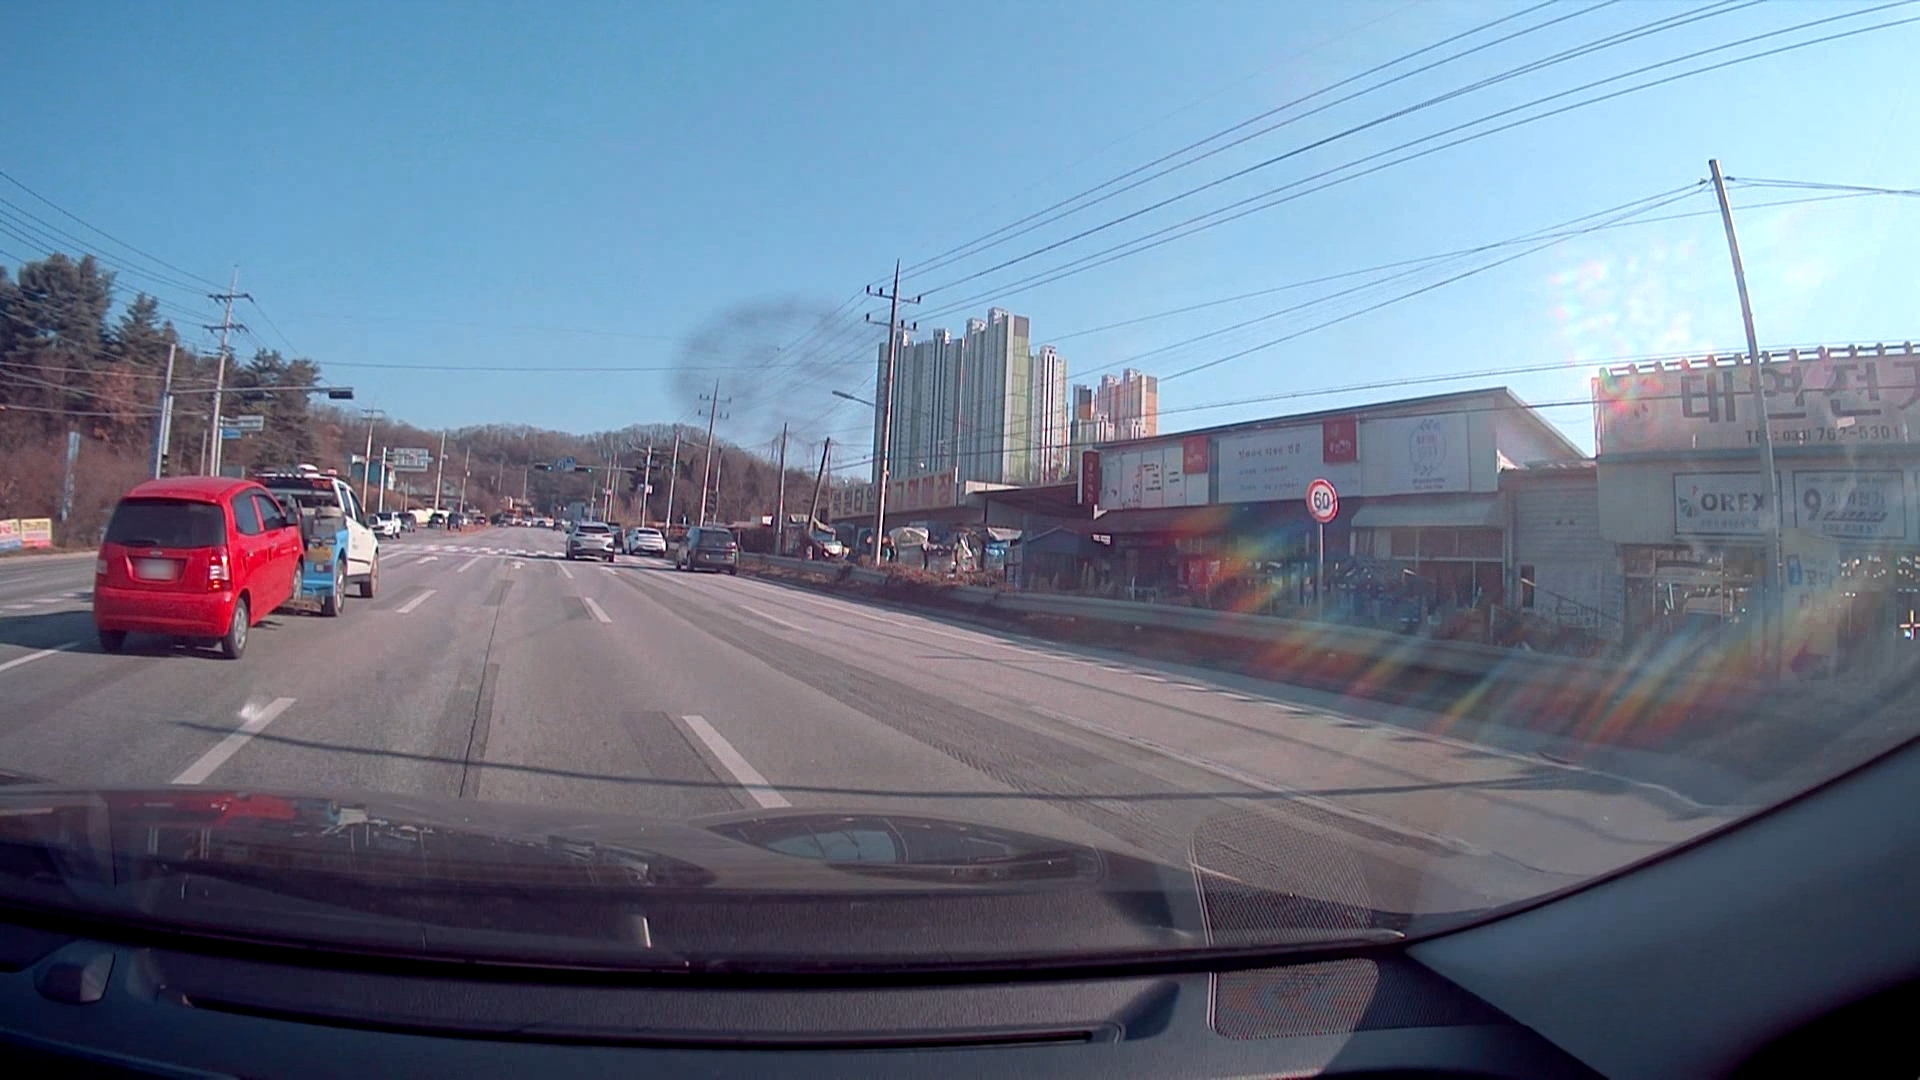trafficLight: (531, 465, 597, 473)
trafficSignCircle: (1309, 483, 1342, 518)
